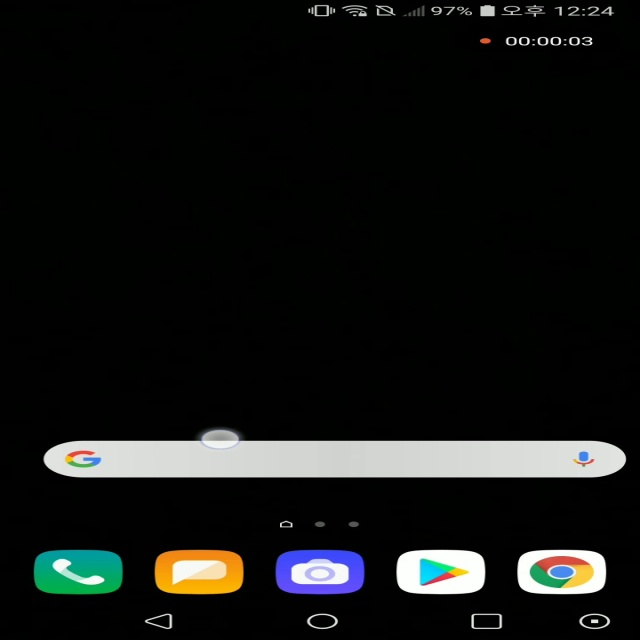Cursor: (199, 430, 243, 452)
